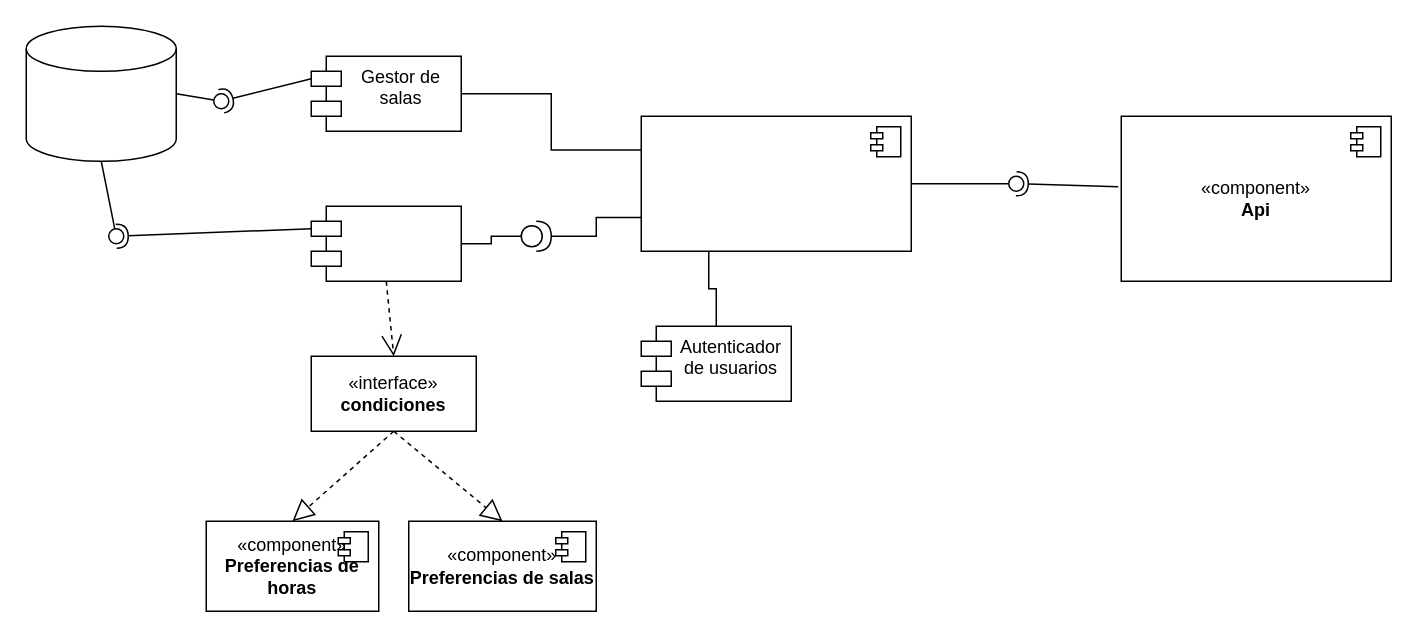
Image size: 1418x638. Some labels were removed from this diagram. Here are the shapes that lost their labels. From the top down, the centre of each, then its label:
pixel 100 93: Base de datos UCT
pixel 775 183: «APP» Reservas de salas
pixel 385 243: Gestor de usuarios
